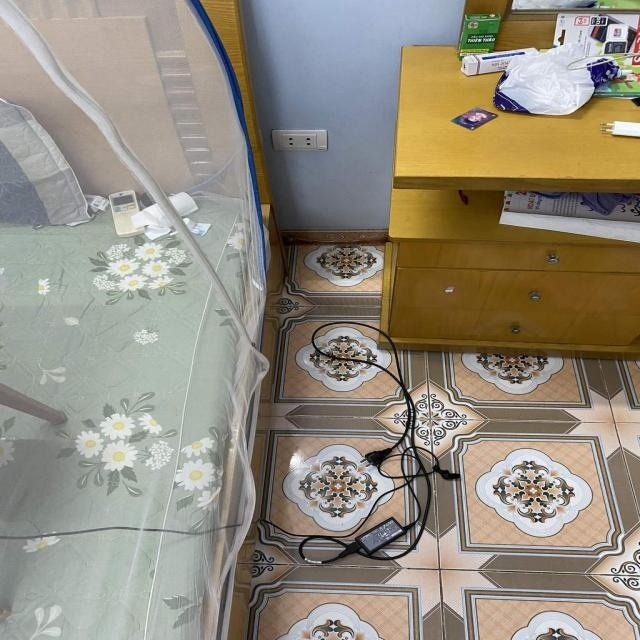outlet: (270, 129, 328, 151)
